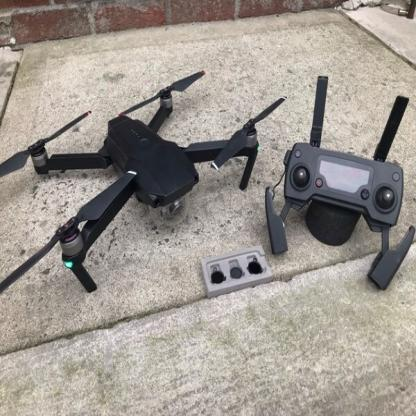drone: (1, 66, 293, 298)
